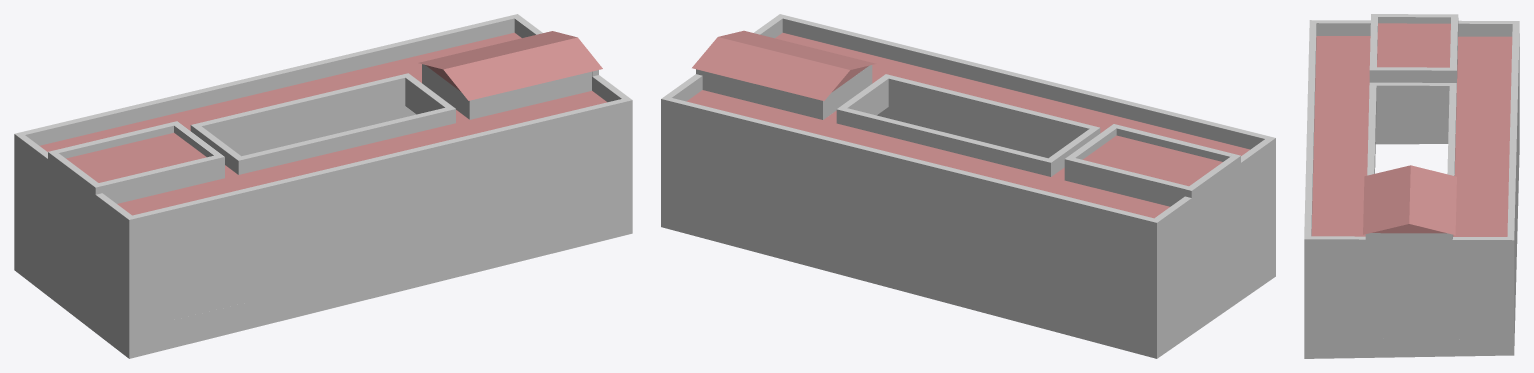
Rendered from LOD_Block_3_56.glb.
3 views of the same model, side by side, from view 1: azimuth 30°, elevation 25°; view 2: azimuth 150°, elevation 25°; view 3: azimuth 270°, elevation 25° (orthographic). The views are drawn at different scales.
Parts seen in each view (by area): view 1: mesh_CityEngineMaterial_982; view 2: mesh_CityEngineMaterial_982; view 3: mesh_CityEngineMaterial_982.
Boxes of the visible parts, bbox=[...] form: mesh_CityEngineMaterial_982: bbox=[14, 14, 632, 358]; mesh_CityEngineMaterial_982: bbox=[661, 14, 1275, 358]; mesh_CityEngineMaterial_982: bbox=[1304, 14, 1519, 358].
Bounding box in the file's own units: 37.16 × 11.12 × 15.33.
